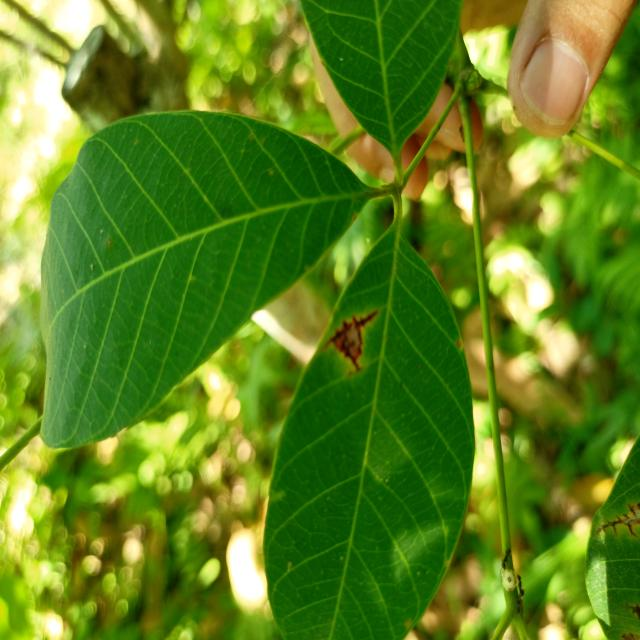Corynespora: (320, 310, 379, 371)
